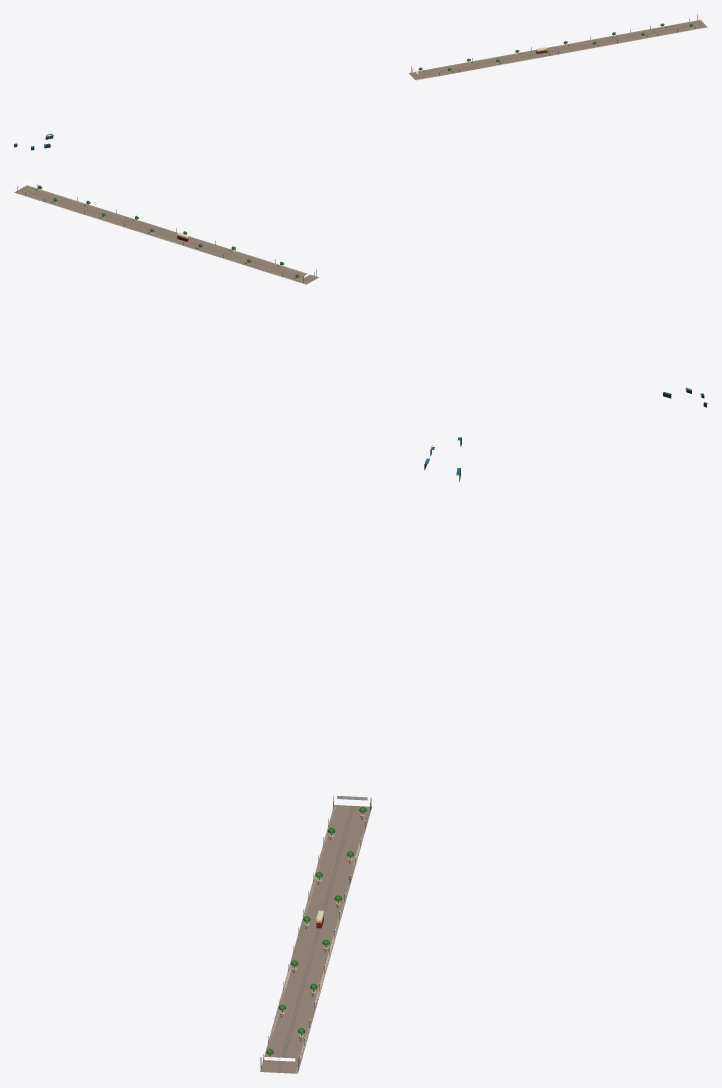
Rendered from mainstreet_fx.glb.
3 views of the same model, one above another, from view 1: azimuth 30°, elevation 25°; view 2: azimuth 150°, elevation 25°; view 3: azimuth 270°, elevation 25° (orthographic). The views are drawn at different scales.
Parts seen in each view (by area): view 1: mainstreet_fx_lod0; view 2: mainstreet_fx_lod0; view 3: mainstreet_fx_lod0.
Boxes of the visible parts, x1,y1,x2,y2 form: mainstreet_fx_lod0: (14,14,707,150); mainstreet_fx_lod0: (14,180,707,407); mainstreet_fx_lod0: (260,437,461,1073).
Size of what is drawn, in the model's own units: 623 by 5.7 by 84.48.
Materials: 19 (1 with a texture image).
